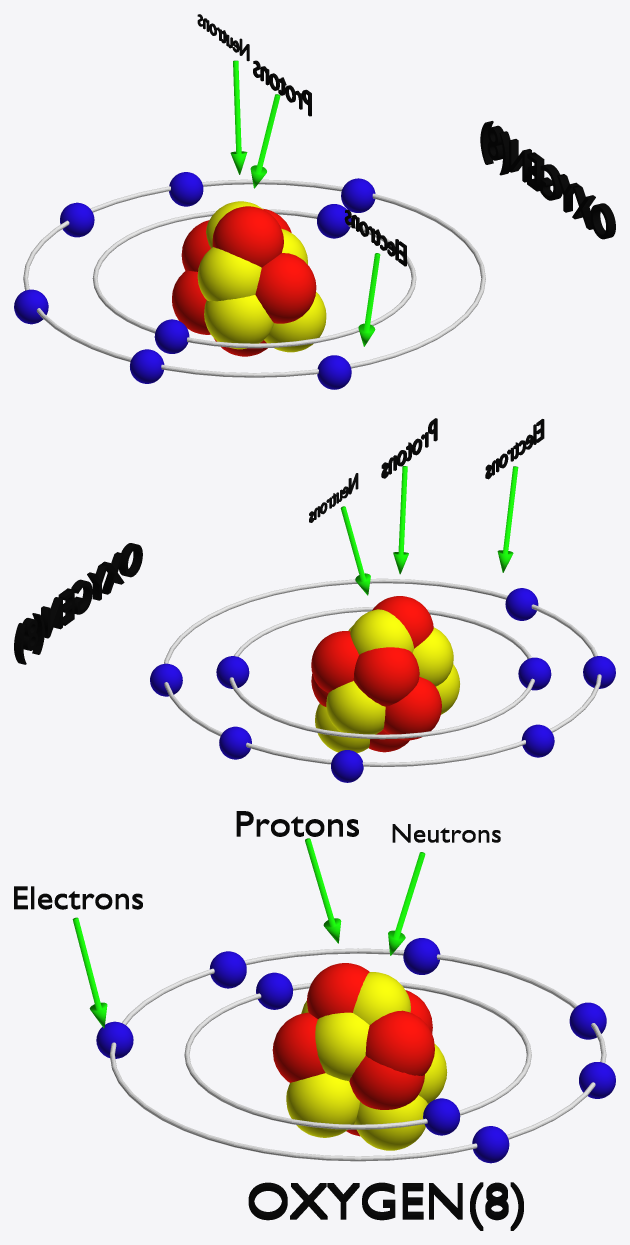
Rendered from Oxygen Atomic Model .gltf.
The picture shows the model from 3 angles, top to bottom: view 1: azimuth 30°, elevation 25°; view 2: azimuth 150°, elevation 25°; view 3: azimuth 270°, elevation 25°; orthographic projection. The views are drawn at different scales.
Visible parts, largest first — view 1: Torus.001, Text.003, Sphere.012, Sphere.006, Torus, Sphere.008, Sphere.001, Sphere.009, Sphere.011, Sphere.003, Sphere.021, Sphere.016 (+13 smaller); view 2: Torus.001, Text.003, Torus, Sphere.003, Sphere.011, Sphere.007, Sphere, Sphere.004, Sphere.001, Sphere.006, Sphere.010, Sphere.019 (+14 smaller); view 3: Torus.001, Text.003, Torus, Sphere, Sphere.009, Sphere.002, Sphere.013, Sphere.012, Sphere.006, Sphere.010, Sphere.004, Text (+14 smaller).
Part boxes in pixels (box(x1,y1,x2,y2)): Torus.001: box(23, 179, 485, 377); Text.003: box(480, 121, 615, 239); Sphere.012: box(255, 253, 316, 323); Sphere.006: box(212, 206, 283, 267); Torus: box(92, 209, 416, 348); Sphere.008: box(204, 295, 273, 349); Sphere.001: box(197, 247, 261, 301); Sphere.009: box(264, 292, 326, 352); Sphere.011: box(172, 270, 210, 334); Sphere.003: box(181, 220, 210, 271); Sphere.021: box(169, 172, 203, 206); Sphere.016: box(317, 355, 351, 389); Torus.001: box(164, 578, 601, 767); Text.003: box(14, 543, 142, 664); Torus: box(229, 606, 534, 739); Sphere.003: box(353, 647, 419, 706); Sphere.011: box(383, 677, 441, 740); Sphere.007: box(326, 681, 385, 734); Sphere: box(311, 631, 358, 692); Sphere.004: box(350, 609, 413, 654); Sphere.001: box(412, 627, 453, 686); Sphere.006: box(372, 596, 433, 648); Sphere.010: box(315, 703, 369, 752); Sphere.019: box(331, 750, 363, 782); Torus.001: box(110, 948, 606, 1161); Text.003: box(248, 1182, 523, 1230); Torus: box(184, 982, 531, 1129); Sphere: box(365, 1010, 434, 1075); Sphere.009: box(286, 1073, 359, 1137); Sphere.002: box(315, 1012, 369, 1080); Sphere.013: box(349, 1056, 424, 1109); Sphere.012: box(272, 1012, 325, 1082); Sphere.006: box(307, 963, 369, 1018); Sphere.010: box(354, 1095, 427, 1150); Sphere.004: box(353, 972, 410, 1024); Text: box(14, 886, 142, 909).
Size of the model in its own units: 6.64 by 3.7 by 6.22.
